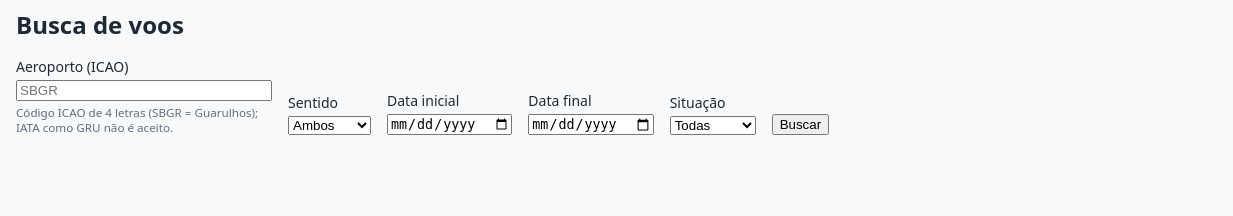
Scenario: Tela de busca › Código IATA: mostra a mensagem da API sobre ICAO
Type "GRU" into the field labelled "Aeroporto". click: (144, 90)
box: [16,80,272,101]
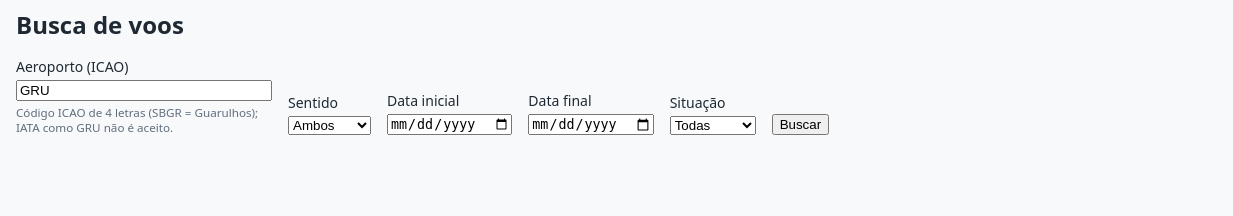
Click the button "Buscar". click: (800, 124)
box: [772,114,829,135]
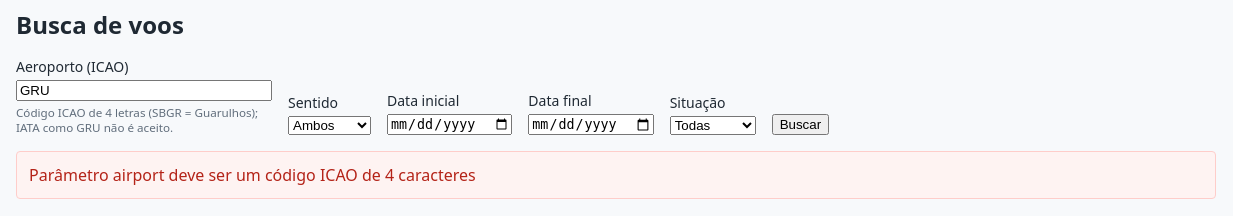
Now the message shows "ICAO de 4 caracteres", box [29,164,476,186]
